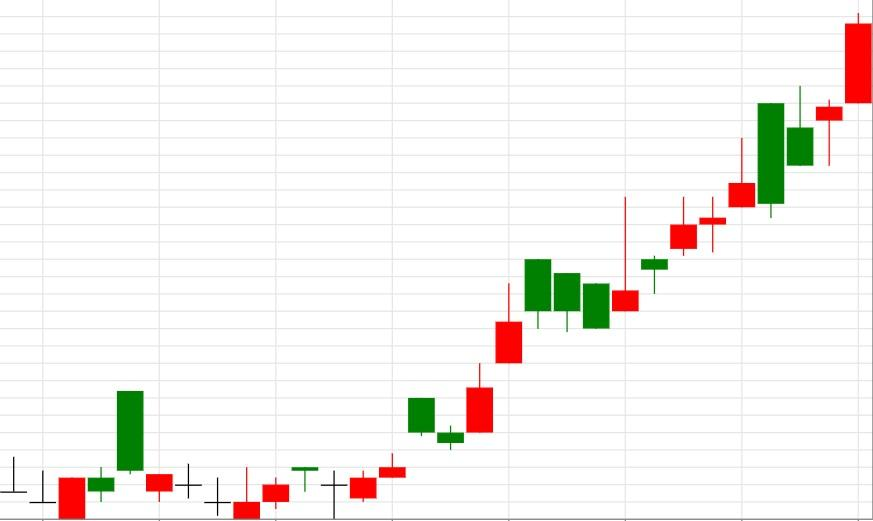inverse_hammer_rise: (117, 390, 261, 519), (524, 196, 640, 332)
